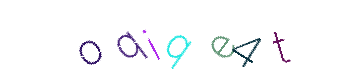4: (148, 0, 228, 80)
E: (141, 0, 221, 80)
I: (137, 0, 217, 80)
O: (112, 0, 192, 80)
Q: (134, 0, 214, 80), (137, 0, 217, 80)
T: (153, 0, 233, 80)
